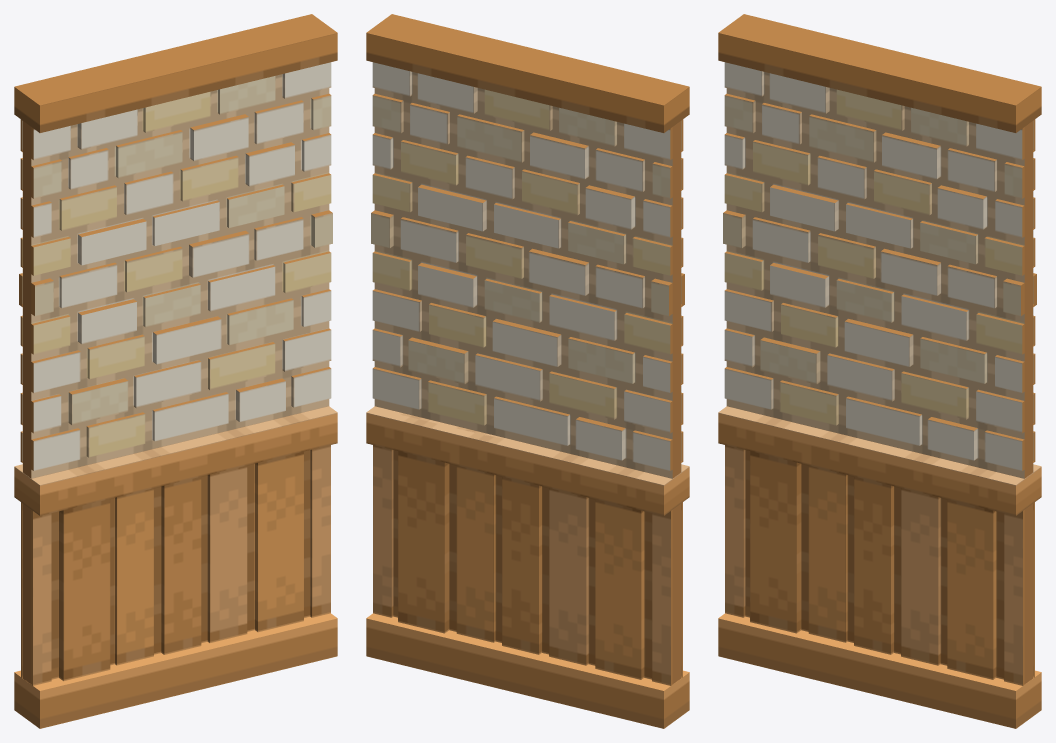
The model's file is Wall_Proto_2fbx.fbx.
3 views of the same model, side by side, from view 1: azimuth 30°, elevation 25°; view 2: azimuth 150°, elevation 25°; view 3: azimuth 330°, elevation 25° (orthographic).
Parts seen in each view (by area): view 1: Plane.001, Plane, Side Wall; view 2: Plane, Plane.001, Side Wall; view 3: Plane.001, Plane, Side Wall.001.
Part boxes in pixels (bbox=[...]): Plane.001: bbox=[20, 19, 337, 728]; Plane: bbox=[14, 14, 319, 715]; Side Wall: bbox=[23, 121, 31, 683]; Plane: bbox=[366, 26, 672, 728]; Plane.001: bbox=[372, 14, 689, 724]; Side Wall: bbox=[672, 121, 680, 683]; Plane.001: bbox=[718, 19, 1034, 728]; Plane: bbox=[736, 14, 1041, 715]; Side Wall.001: bbox=[1024, 121, 1032, 683].
Size of the model in its own units: 2 by 0.3 by 4.
Materials: 2 (1 with a texture image).
